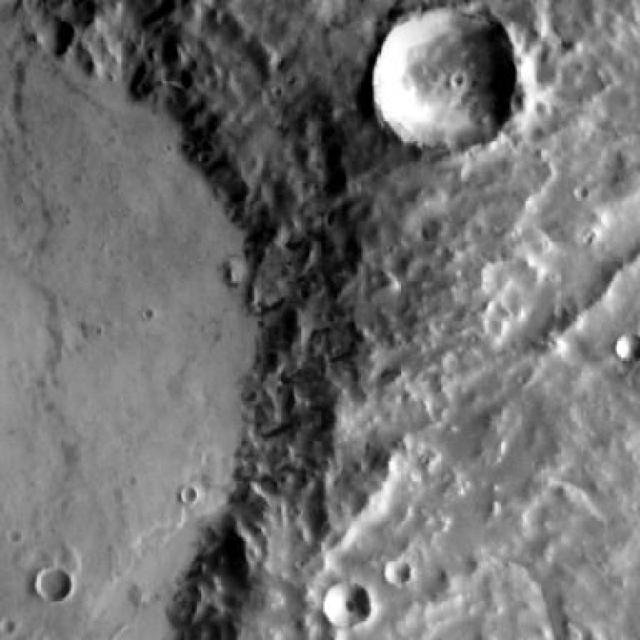crater: (0, 11, 298, 640), (364, 10, 510, 155), (325, 588, 370, 630), (27, 570, 61, 604), (611, 334, 640, 363), (385, 561, 410, 585)
